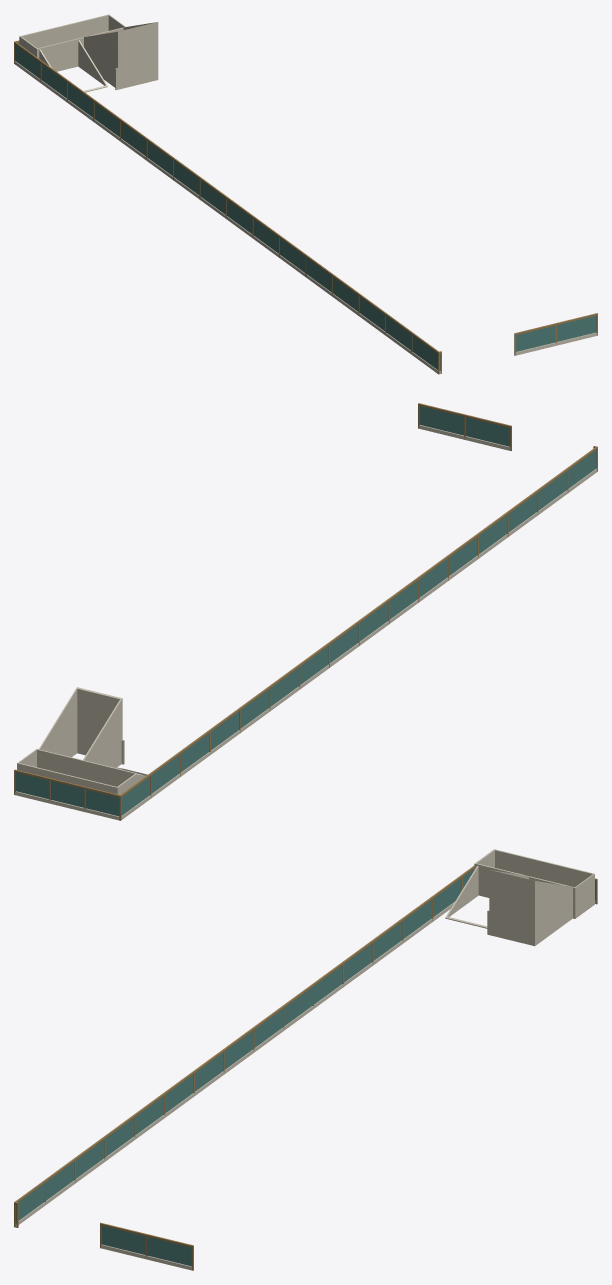
File: AST-TRM-G4-022_north_access_protection.glb
3 views of the same model, one above another, from view 1: azimuth 30°, elevation 25°; view 2: azimuth 150°, elevation 25°; view 3: azimuth 330°, elevation 25° (orthographic). The views are drawn at different scales.
Parts seen in each view (by area): view 1: N007_WestEdge_Infill, N007_Flight1_FrontSeal, N007_WestEdge_Base, N007_WestEdge_Rail, N007_SouthRightEdge_Infill, N007_Flight1_OuterSkirt, N007_MidLanding_RearSeal, N007_MidLanding_FrontSeal, N007_Flight0_InnerSkirt; view 2: N007_WestEdge_Infill, N007_WestEdge_Base, N007_ForeEdge_Infill, N007_WestEdge_Rail, N007_Flight1_FrontSeal, N007_SouthRightEdge_Infill, N007_MidLanding_FrontSeal, N007_Flight1_OuterSkirt, N007_Flight1_InnerSkirt, N007_MidLanding_RearSeal; view 3: N007_WestEdge_Infill, N007_Flight1_FrontSeal, N007_WestEdge_Base, N007_Flight1_InnerSkirt, N007_WestEdge_Rail, N007_MidLanding_RearSeal, N007_SouthRightEdge_Infill, N007_MidLanding_FrontSeal, N007_Flight0_OuterSkirt, N007_MidLanding_InnerSkirt.
Boxes of the visible parts, x1=… form: N007_WestEdge_Infill: x1=15, y1=44, x2=437, y2=369; N007_Flight1_FrontSeal: x1=118, y1=22, x2=157, y2=89; N007_WestEdge_Base: x1=14, y1=61, x2=438, y2=373; N007_WestEdge_Rail: x1=14, y1=42, x2=438, y2=353; N007_SouthRightEdge_Infill: x1=516, y1=316, x2=596, y2=351; N007_Flight1_OuterSkirt: x1=83, y1=31, x2=119, y2=89; N007_MidLanding_RearSeal: x1=19, y1=14, x2=108, y2=48; N007_MidLanding_FrontSeal: x1=36, y1=27, x2=124, y2=71; N007_Flight0_InnerSkirt: x1=78, y1=40, x2=107, y2=87; N007_WestEdge_Infill: x1=121, y1=450, x2=596, y2=815; N007_WestEdge_Base: x1=121, y1=468, x2=597, y2=819; N007_ForeEdge_Infill: x1=16, y1=772, x2=119, y2=816; N007_WestEdge_Rail: x1=120, y1=446, x2=597, y2=797; N007_Flight1_FrontSeal: x1=77, y1=687, x2=120, y2=755; N007_SouthRightEdge_Infill: x1=419, y1=406, x2=509, y2=446; N007_MidLanding_FrontSeal: x1=36, y1=749, x2=137, y2=786; N007_Flight1_OuterSkirt: x1=82, y1=698, x2=122, y2=778; N007_Flight1_InnerSkirt: x1=38, y1=687, x2=77, y2=767; N007_MidLanding_RearSeal: x1=17, y1=763, x2=118, y2=794; N007_WestEdge_Infill: x1=18, y1=869, x2=474, y2=1220; N007_Flight1_FrontSeal: x1=490, y1=870, x2=534, y2=945; N007_WestEdge_Base: x1=18, y1=902, x2=454, y2=1224; N007_Flight1_InnerSkirt: x1=534, y1=880, x2=573, y2=946; N007_WestEdge_Rail: x1=15, y1=866, x2=474, y2=1202; N007_MidLanding_RearSeal: x1=493, y1=849, x2=594, y2=904; N007_SouthRightEdge_Infill: x1=101, y1=1226, x2=191, y2=1266; N007_MidLanding_FrontSeal: x1=474, y1=863, x2=575, y2=918; N007_Flight0_OuterSkirt: x1=445, y1=866, x2=478, y2=918; N007_MidLanding_InnerSkirt: x1=575, y1=873, x2=594, y2=917.
Bounding box in the file's own units: 9.6 × 3.35 × 44.3.
3 materials, 2 textured.
